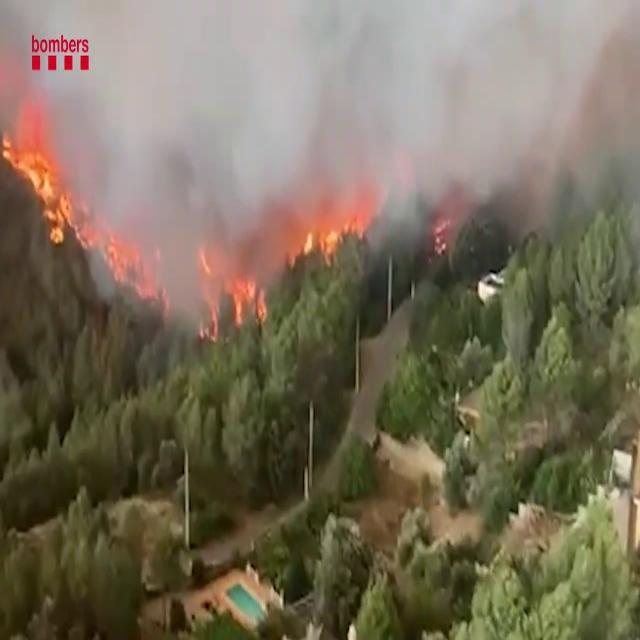Fire: (1, 114, 74, 244), (194, 237, 268, 341), (92, 208, 163, 311), (290, 190, 376, 272)
Smoke: (281, 0, 640, 246), (68, 0, 276, 321)
